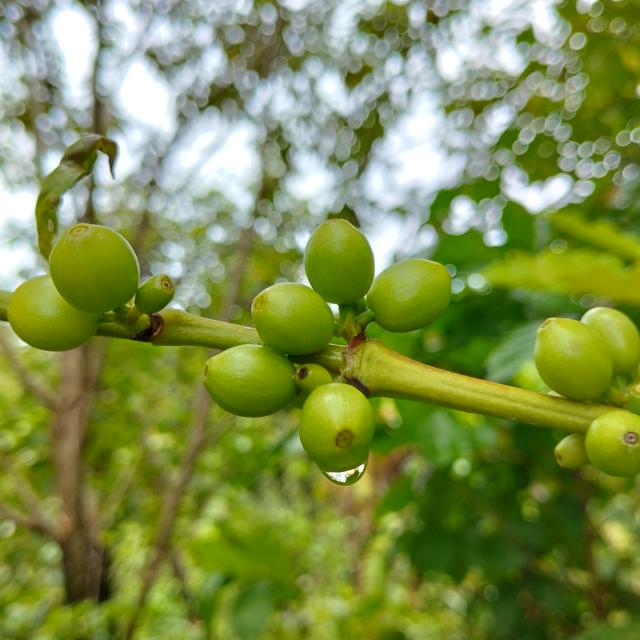green: (48, 223, 139, 315), (48, 223, 139, 315), (202, 344, 298, 418), (202, 344, 298, 418), (7, 275, 98, 351), (7, 275, 98, 351), (299, 383, 375, 473), (535, 318, 614, 401), (366, 259, 452, 332), (366, 259, 452, 332), (304, 219, 375, 305), (251, 283, 335, 355), (251, 283, 335, 355), (582, 307, 640, 376), (582, 307, 640, 376), (586, 411, 640, 477), (586, 411, 640, 477)
